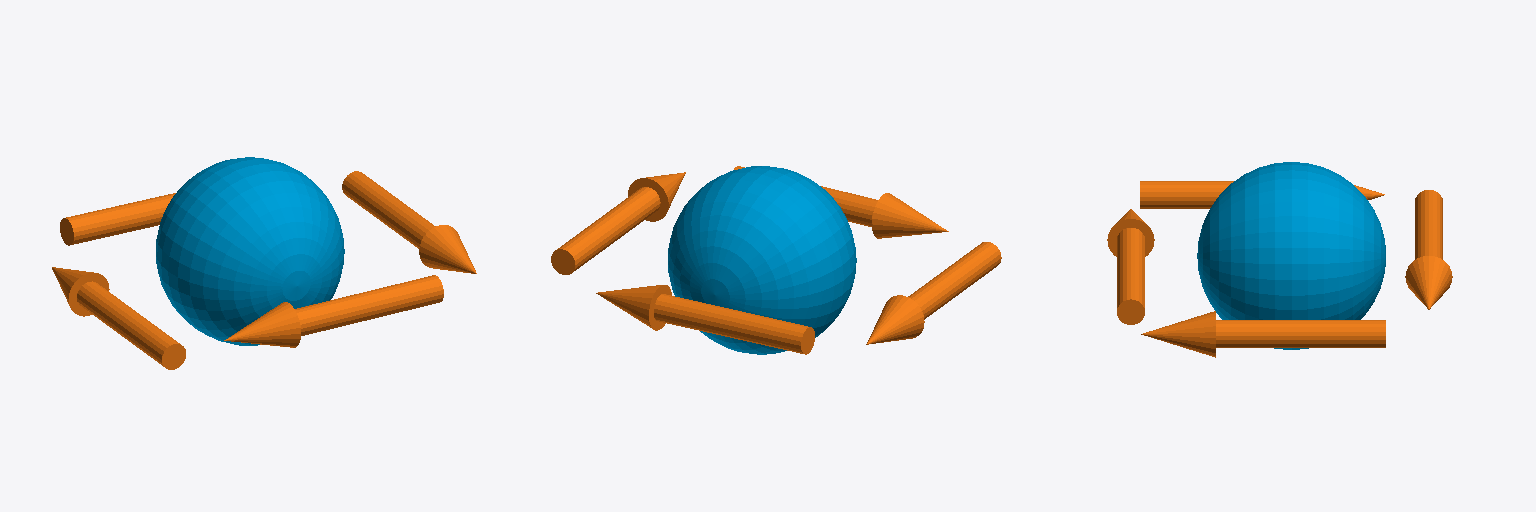
The model's file is Uniform Motion.obj.
3 views of the same model, side by side, from view 1: azimuth 30°, elevation 25°; view 2: azimuth 150°, elevation 25°; view 3: azimuth 270°, elevation 25° (orthographic).
Visible parts, largest first — view 1: obj_0; view 2: obj_0; view 3: obj_0.
Part boxes in pixels (x1,y1,x2,y2): obj_0: (52, 157, 476, 369); obj_0: (551, 166, 1001, 354); obj_0: (1107, 162, 1452, 357).
Size of the model in its own units: 42 by 20 by 36.5.